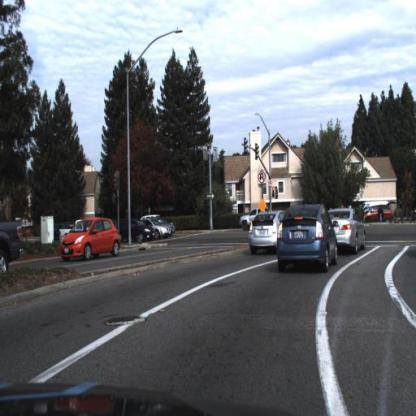car: (277, 203, 340, 273), (61, 215, 122, 263), (327, 208, 366, 256), (249, 208, 284, 255), (1, 217, 25, 274), (119, 214, 153, 244), (119, 219, 157, 245), (146, 217, 173, 242), (238, 206, 262, 234), (58, 219, 82, 244), (153, 223, 171, 241), (170, 219, 176, 236)
